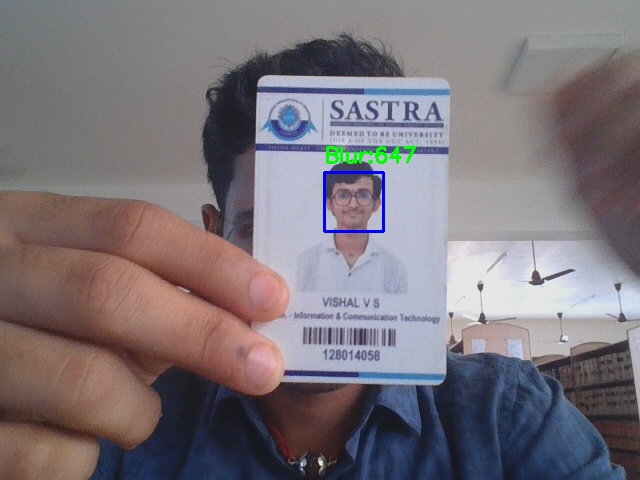fake: (324, 172, 383, 231)
